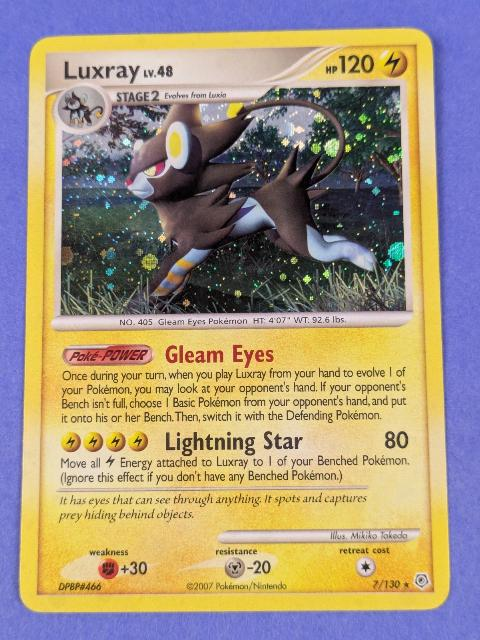Card: (13, 23, 456, 619)
Name: (57, 54, 180, 86)
